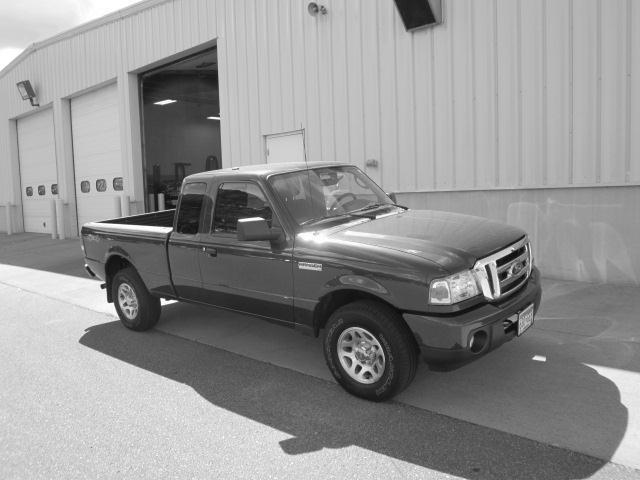car: (80, 165, 543, 405)
